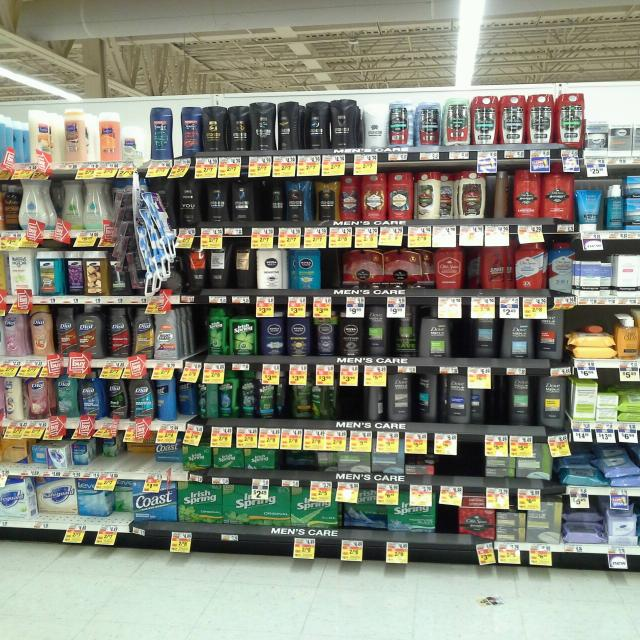empty: (331, 372, 366, 420), (440, 438, 482, 477), (450, 317, 478, 360), (433, 502, 461, 539), (490, 377, 512, 422)
